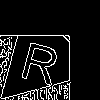R: (17, 33, 65, 86)
